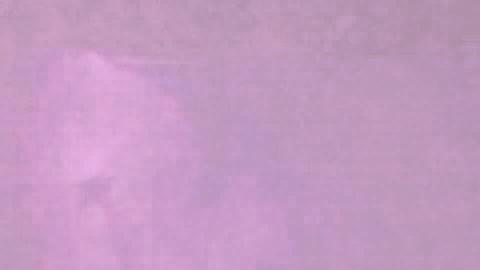tomato: (2, 89, 240, 270), (242, 107, 478, 268)
